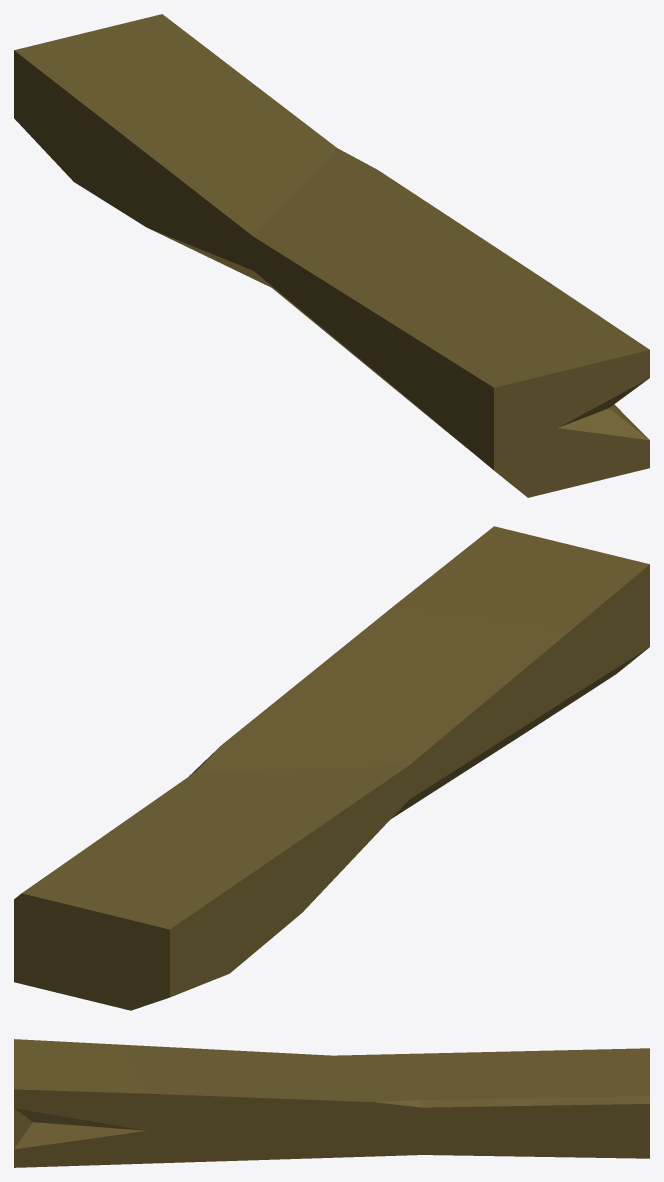
Rendered from Woodplank.fbx.
3 views of the same model, one above another, from view 1: azimuth 30°, elevation 25°; view 2: azimuth 150°, elevation 25°; view 3: azimuth 270°, elevation 25° (orthographic). The views are drawn at different scales.
Parts seen in each view (by area): view 1: Woodenplank; view 2: Woodenplank; view 3: Woodenplank.
Part boxes in pixels (x1,y1,x2,y2): Woodenplank: (14, 14, 649, 497); Woodenplank: (14, 526, 649, 1010); Woodenplank: (14, 1039, 649, 1167).
Size of the model in its own units: 0.1874 by 0.136 by 1.
